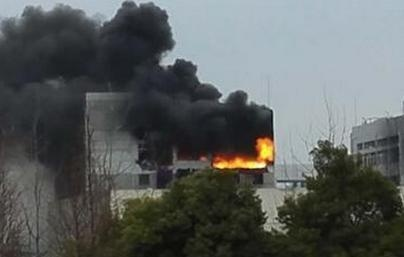fire: (209, 135, 276, 168)
